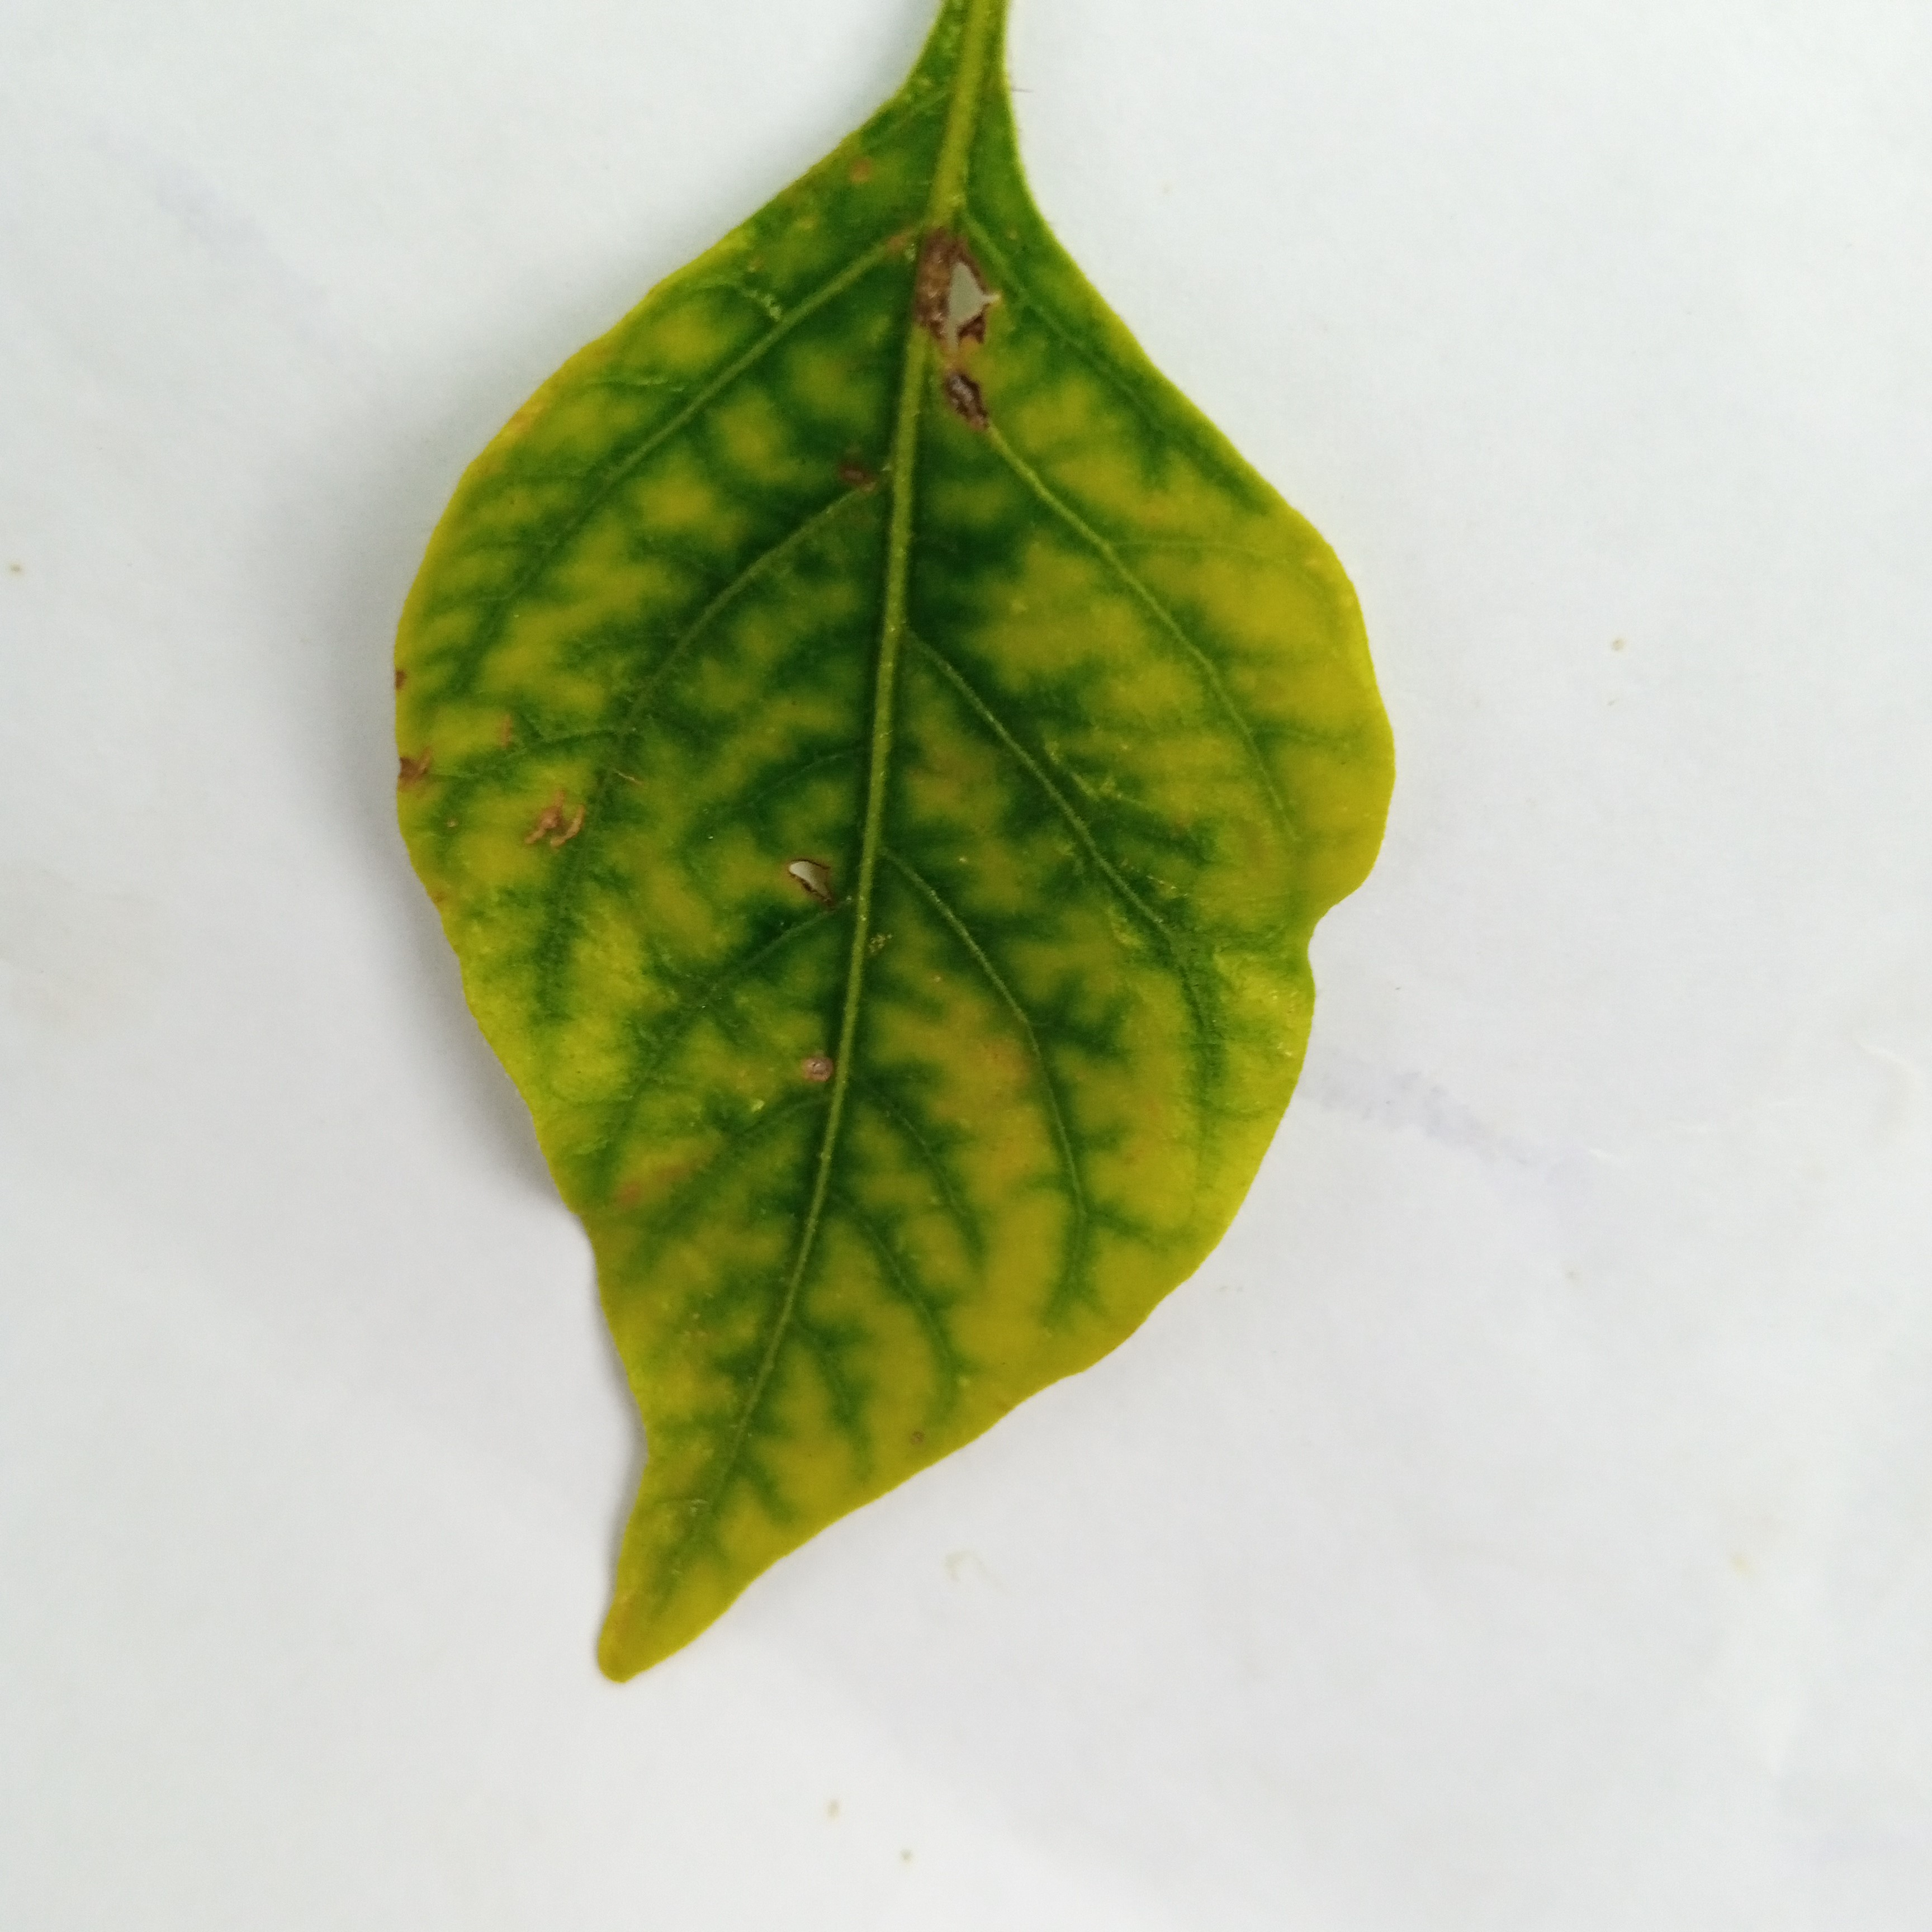Leaf: (163, 88, 1525, 1851)
